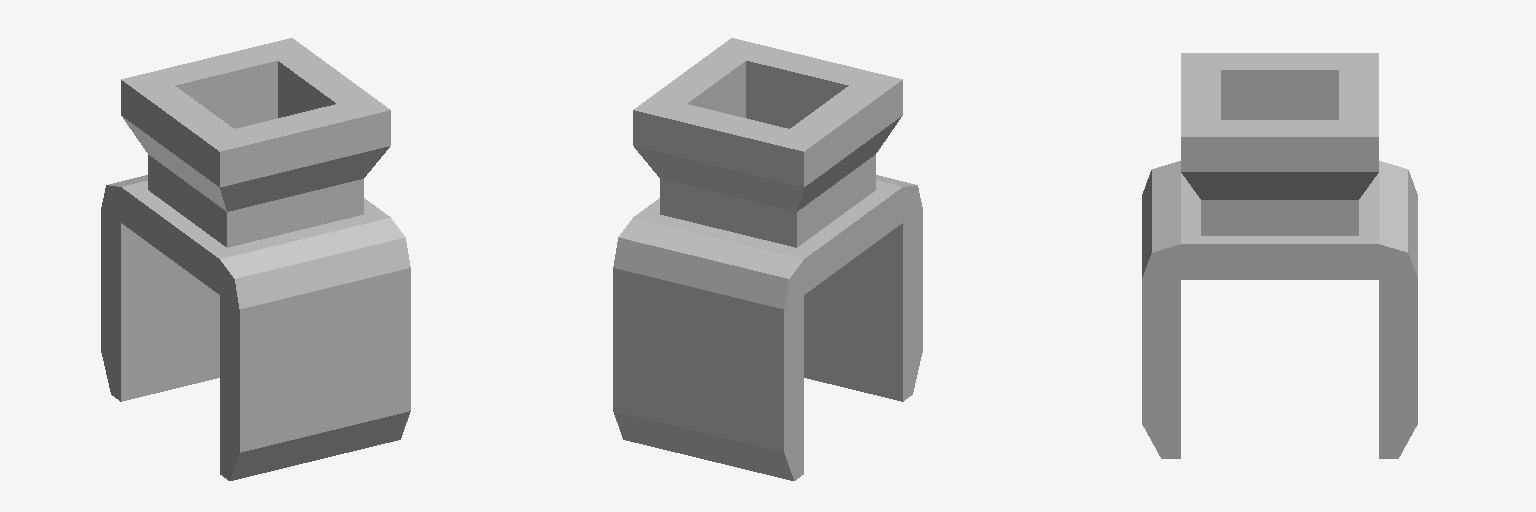
The model's file is cover-stripe-hopper.obj.
3 views of the same model, side by side, from view 1: azimuth 30°, elevation 25°; view 2: azimuth 150°, elevation 25°; view 3: azimuth 270°, elevation 25° (orthographic).
Parts seen in each view (by area): view 1: cover-stripe-hopper; view 2: cover-stripe-hopper; view 3: cover-stripe-hopper.
Boxes of the visible parts, x1,y1,x2,y2 form: cover-stripe-hopper: [101, 38, 410, 480]; cover-stripe-hopper: [613, 38, 922, 480]; cover-stripe-hopper: [1142, 53, 1417, 458].
Bounding box in the file's own units: 1 × 1.8 × 1.4.